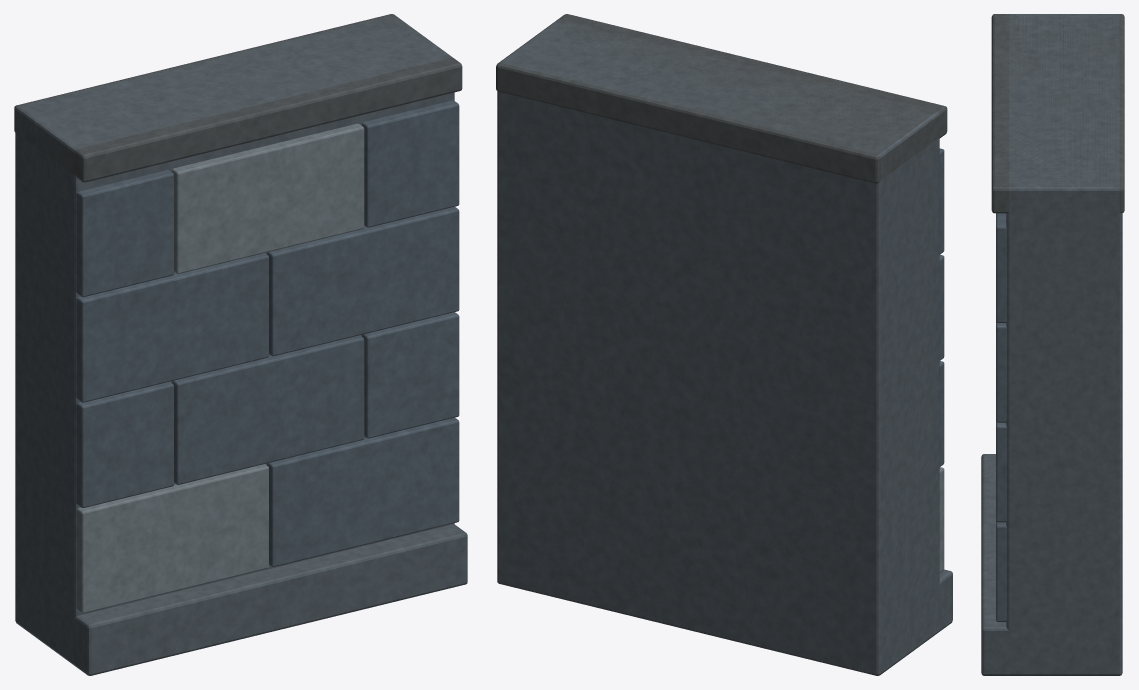
File: SF_WallBay_10.glb
3 views of the same model, side by side, from view 1: azimuth 30°, elevation 25°; view 2: azimuth 150°, elevation 25°; view 3: azimuth 270°, elevation 25° (orthographic). The views are drawn at different scales.
Visible parts, largest first — view 1: SF_WallBay_10; view 2: SF_WallBay_10; view 3: SF_WallBay_10.
Part boxes in pixels (x1,y1,x2,y2): SF_WallBay_10: (14, 14, 467, 675); SF_WallBay_10: (496, 14, 952, 675); SF_WallBay_10: (981, 14, 1124, 675).
Bounding box in the file's own units: 10 × 13 × 3.45.
1 material, 1 textured.
